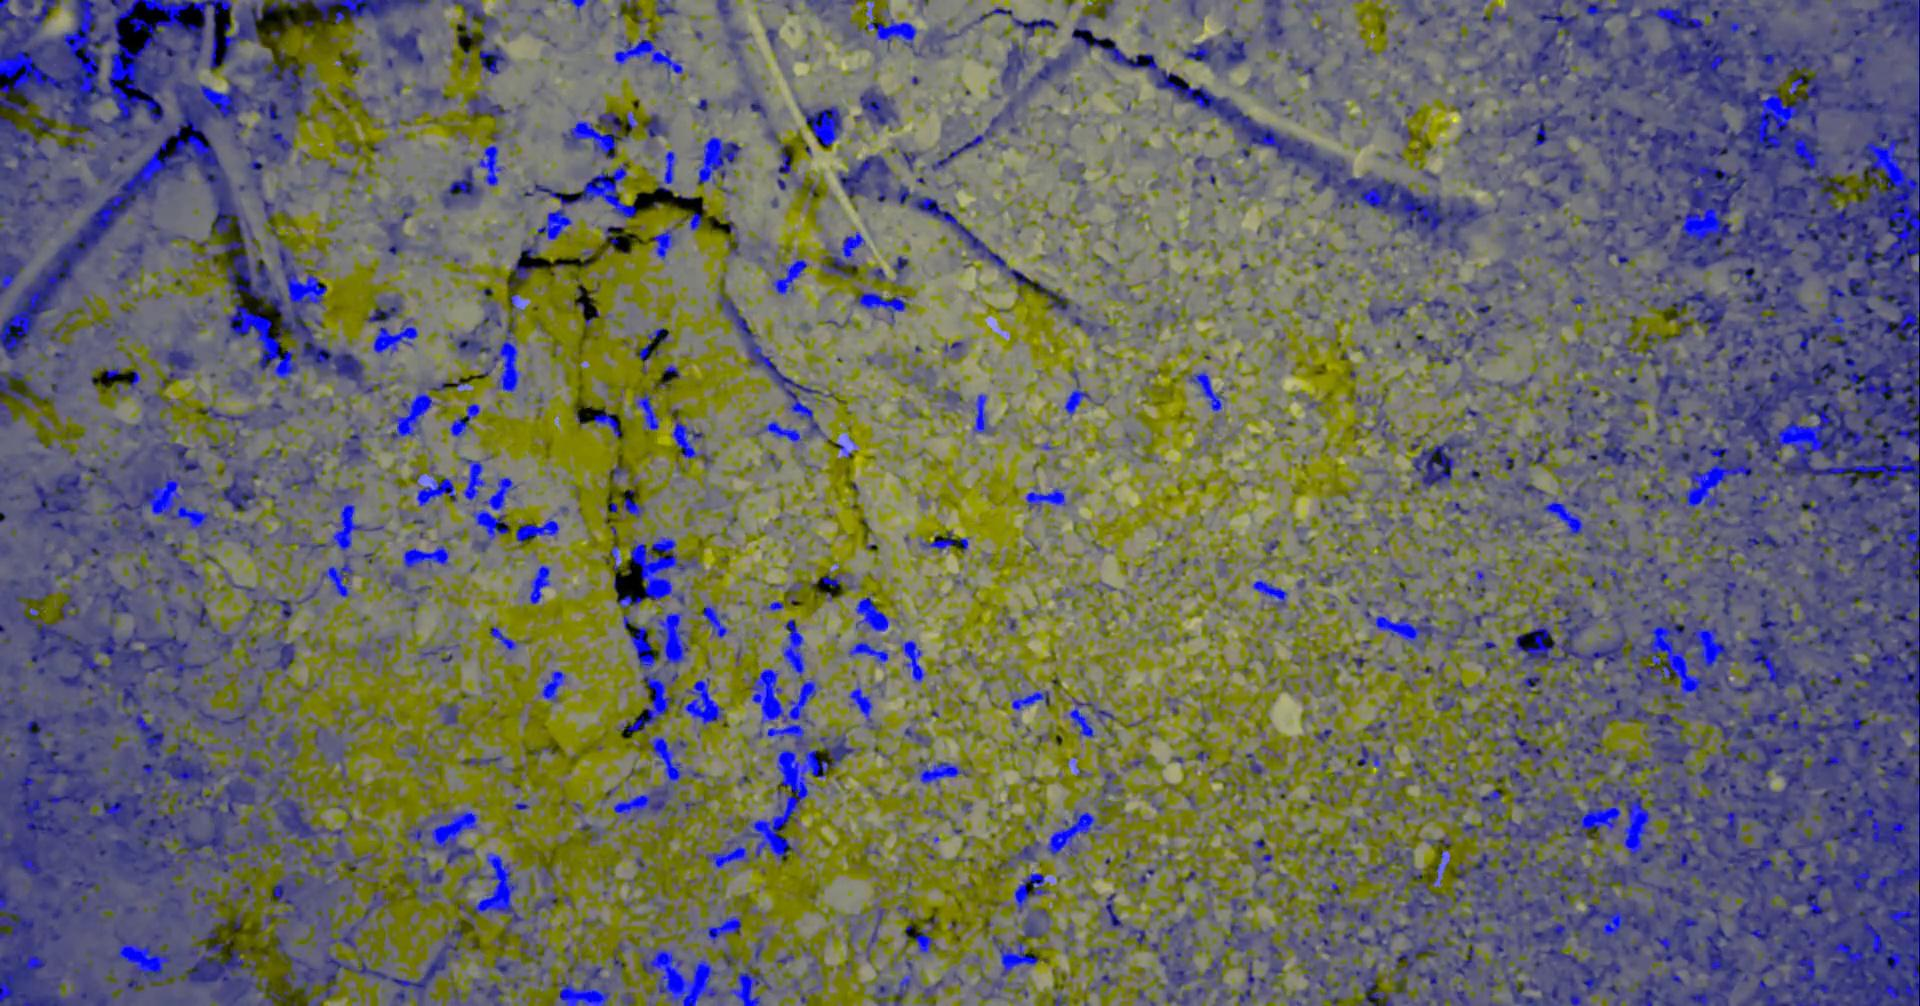ant: (979, 934, 1048, 1000), (843, 8, 916, 51), (458, 457, 517, 509), (971, 6, 1058, 38), (1368, 291, 1449, 324), (1501, 175, 1564, 216), (372, 196, 415, 255), (764, 126, 804, 191), (277, 441, 323, 494), (312, 725, 350, 788), (400, 850, 444, 901), (1355, 744, 1394, 800), (670, 415, 712, 467), (872, 956, 917, 1005), (820, 231, 865, 278), (797, 102, 842, 146), (853, 290, 908, 325), (1069, 697, 1117, 737), (657, 150, 695, 199), (855, 86, 898, 130), (1412, 758, 1455, 801), (1374, 97, 1411, 146), (330, 418, 367, 467), (1564, 332, 1603, 379), (1243, 837, 1272, 898), (634, 326, 669, 373), (417, 465, 457, 506), (470, 509, 508, 551), (923, 23, 971, 56), (378, 569, 430, 600), (1462, 144, 1497, 188), (848, 681, 880, 730), (1368, 389, 1396, 443), (447, 978, 504, 1005), (1396, 0, 1455, 25), (606, 478, 644, 517), (403, 537, 450, 569), (1189, 370, 1224, 412), (1492, 512, 1548, 537), (1390, 561, 1420, 608), (1015, 873, 1049, 912), (1064, 370, 1092, 417), (771, 258, 806, 295), (996, 840, 1040, 869), (918, 760, 968, 785), (1261, 0, 1288, 47), (697, 915, 742, 942), (865, 904, 886, 962), (855, 594, 888, 631), (467, 93, 510, 121), (516, 517, 557, 545), (568, 0, 606, 30), (1095, 892, 1125, 929), (1288, 50, 1318, 85), (804, 0, 856, 20), (1015, 907, 1049, 937), (1252, 579, 1288, 608), (1025, 485, 1065, 511), (1451, 406, 1488, 434), (900, 640, 924, 682), (450, 403, 479, 437), (632, 391, 658, 429), (700, 605, 729, 638), (848, 640, 888, 664), (1317, 847, 1356, 871), (342, 85, 378, 111), (1310, 99, 1341, 130), (1495, 373, 1533, 398), (914, 916, 938, 954), (0, 396, 25, 432), (1460, 467, 1496, 493), (489, 625, 524, 650), (1125, 864, 1158, 890), (321, 164, 361, 185), (528, 564, 550, 603), (540, 669, 565, 702), (651, 225, 676, 259), (1010, 690, 1050, 710), (1486, 443, 1514, 473), (1069, 315, 1109, 335), (1308, 20, 1331, 55), (593, 408, 620, 437), (1455, 124, 1493, 145), (971, 392, 990, 433), (817, 572, 860, 589), (417, 85, 450, 108), (919, 530, 954, 551), (803, 956, 822, 995), (418, 643, 458, 661), (1425, 833, 1453, 859), (643, 113, 668, 138), (918, 976, 943, 1001), (1500, 222, 1523, 250), (1458, 711, 1481, 739), (1465, 569, 1486, 600), (1432, 688, 1458, 711), (903, 727, 931, 747), (1486, 702, 1512, 723), (1090, 970, 1117, 989), (899, 149, 922, 171), (604, 225, 625, 250), (726, 220, 740, 257), (891, 255, 908, 286), (579, 822, 607, 840), (437, 702, 458, 725), (1451, 680, 1483, 695), (1244, 753, 1263, 779), (1382, 793, 1404, 813), (1413, 61, 1432, 85), (1459, 368, 1476, 395), (791, 978, 808, 1005), (458, 754, 502, 765), (1363, 720, 1385, 739), (608, 464, 629, 484), (1183, 0, 1203, 22), (1570, 290, 1589, 311), (679, 212, 702, 230), (1121, 754, 1148, 770), (654, 0, 678, 17), (1542, 226, 1566, 243), (1318, 569, 1342, 586), (786, 580, 803, 605), (1443, 500, 1470, 514), (682, 798, 705, 814), (846, 920, 862, 942), (617, 0, 636, 19), (1347, 815, 1368, 833), (1390, 46, 1412, 62), (335, 140, 361, 154), (1244, 75, 1265, 91), (1135, 988, 1156, 1005), (1263, 539, 1279, 560), (943, 387, 961, 405), (1192, 154, 1211, 170), (1410, 433, 1429, 450), (376, 635, 395, 652), (1351, 655, 1368, 674), (1423, 661, 1443, 677), (775, 949, 794, 965), (942, 340, 963, 356), (1294, 0, 1321, 11), (1535, 390, 1553, 406), (1421, 738, 1439, 754), (1484, 655, 1503, 671), (764, 27, 777, 48), (1072, 163, 1084, 184), (1529, 426, 1552, 437), (1454, 98, 1474, 111), (1476, 506, 1496, 518), (1476, 639, 1496, 652), (1064, 920, 1074, 945), (1514, 312, 1529, 329), (1314, 728, 1331, 743), (1458, 770, 1474, 785), (67, 406, 85, 420), (1396, 776, 1413, 790), (1175, 870, 1196, 882), (232, 907, 244, 929), (610, 545, 620, 569), (391, 76, 403, 97), (626, 111, 637, 131), (1614, 312, 1637, 323), (356, 647, 376, 658), (577, 250, 590, 267), (869, 267, 885, 281), (663, 365, 679, 379), (618, 991, 635, 1005), (460, 50, 471, 69), (761, 601, 783, 610), (695, 98, 709, 112), (1470, 0, 1487, 11), (361, 553, 378, 563), (512, 800, 530, 810), (1393, 30, 1406, 44), (1053, 992, 1067, 1005), (1194, 749, 1209, 761)
